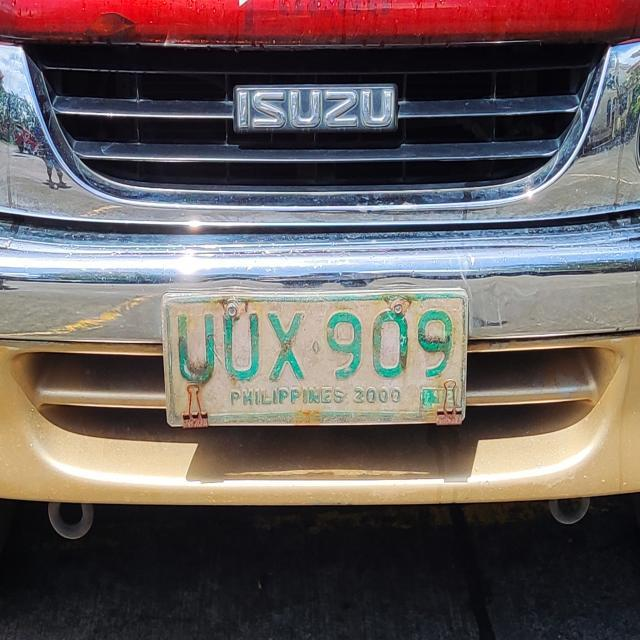LicensePlate: (151, 274, 490, 442)
